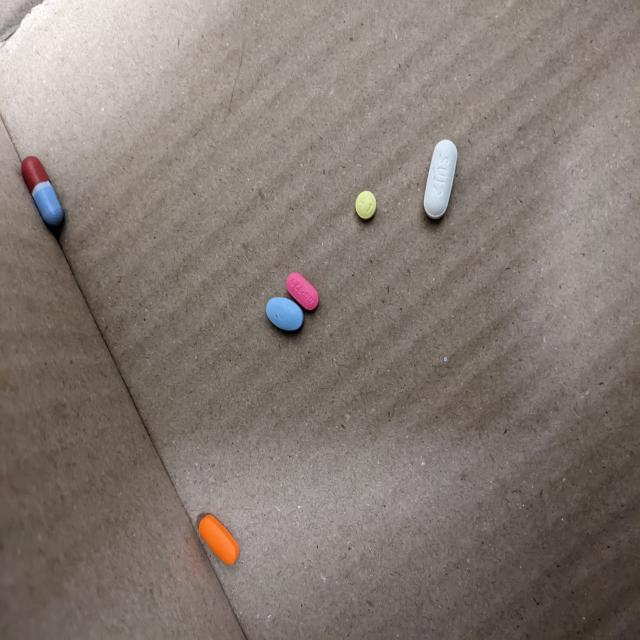non-organic waste: (21, 155, 66, 229), (196, 511, 242, 574), (424, 140, 458, 223), (265, 296, 305, 332), (286, 272, 320, 312), (354, 188, 377, 222)
